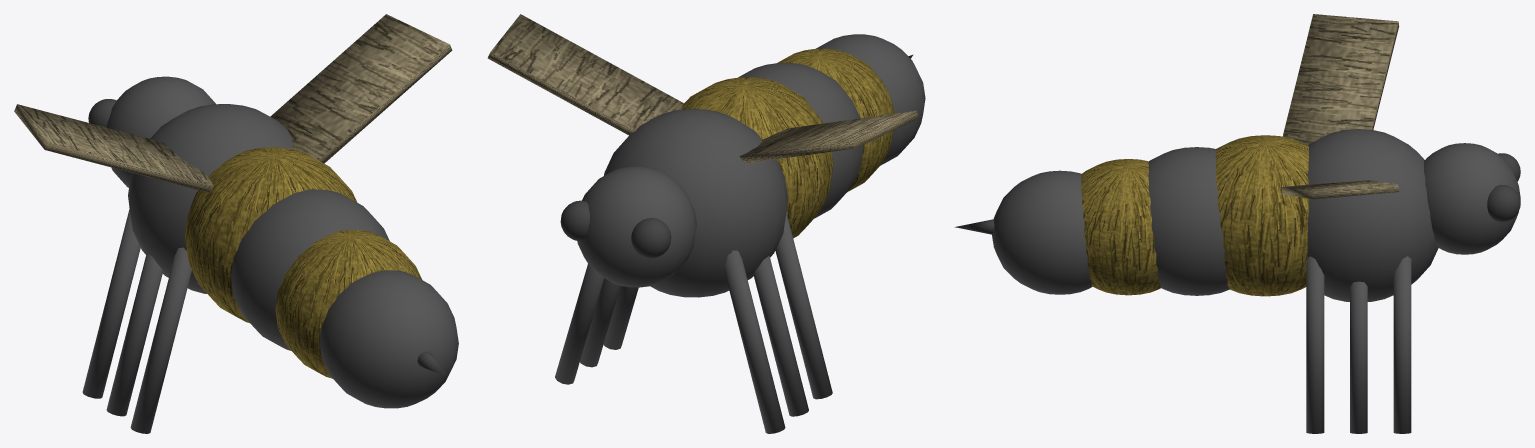
The model's file is cave-wasp.glb.
The picture shows the model from 3 angles, left to right: view 1: azimuth 30°, elevation 25°; view 2: azimuth 150°, elevation 25°; view 3: azimuth 270°, elevation 25°; orthographic projection. The views are drawn at different scales.
Visible parts, largest first — view 1: AbdomenSeg.003, MembraneWing.001, AbdomenSeg, Thorax, AbdomenSeg.001, AbdomenSeg.002, MembraneWing, Head, Leg, Leg.002, Leg.001, Eye; view 2: Thorax, Head, MembraneWing.001, AbdomenSeg, AbdomenSeg.001, AbdomenSeg.002, AbdomenSeg.003, MembraneWing, Leg.002, Leg, Leg.001, Leg.005 (+4 smaller); view 3: Thorax, AbdomenSeg, MembraneWing, AbdomenSeg.001, AbdomenSeg.003, AbdomenSeg.002, Head, Leg.005, Leg.003, Leg.004, MembraneWing.001, Eye.001.
Boxes of the visible parts, x1,y1,x2,y2 form: AbdomenSeg.003: (319, 270, 458, 408); MembraneWing.001: (270, 14, 452, 163); AbdomenSeg: (185, 147, 357, 322); Thorax: (128, 104, 293, 293); AbdomenSeg.001: (230, 189, 389, 350); AbdomenSeg.002: (275, 229, 422, 378); MembraneWing: (14, 104, 213, 192); Head: (106, 76, 215, 187); Leg: (130, 247, 191, 433); Leg.002: (82, 209, 140, 398); Leg.001: (106, 253, 162, 416); Eye: (88, 99, 116, 127); Thorax: (604, 109, 787, 297); Head: (577, 166, 696, 287); MembraneWing.001: (487, 14, 683, 135); AbdomenSeg: (681, 77, 833, 238); AbdomenSeg.001: (738, 63, 863, 218); AbdomenSeg.002: (777, 48, 894, 191); AbdomenSeg.003: (816, 34, 925, 165); MembraneWing: (739, 110, 918, 163); Leg.002: (724, 250, 785, 433); Leg: (775, 212, 832, 399); Leg.001: (753, 255, 808, 416); Leg.005: (555, 264, 604, 384); Thorax: (1307, 129, 1438, 301); AbdomenSeg: (1215, 135, 1308, 296); MembraneWing: (1282, 14, 1399, 145); AbdomenSeg.001: (1148, 147, 1229, 295); AbdomenSeg.003: (992, 170, 1092, 294); AbdomenSeg.002: (1081, 159, 1161, 295); Head: (1424, 143, 1520, 254); Leg.005: (1393, 256, 1411, 433); Leg.003: (1306, 256, 1324, 433); Leg.004: (1350, 281, 1367, 433); MembraneWing.001: (1281, 180, 1399, 199); Eye.001: (1487, 185, 1520, 221).
Bounding box in the file's own units: 0.6851 × 0.5042 × 0.91.
4 materials, 2 textured.
